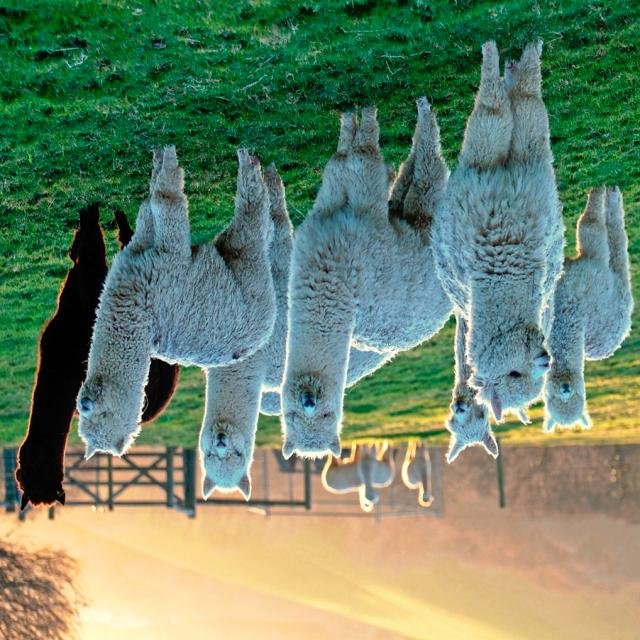alpaca: (198, 166, 390, 496), (278, 101, 454, 457), (78, 143, 266, 457), (15, 210, 174, 510), (444, 37, 564, 424), (538, 183, 630, 431), (449, 312, 507, 462)
